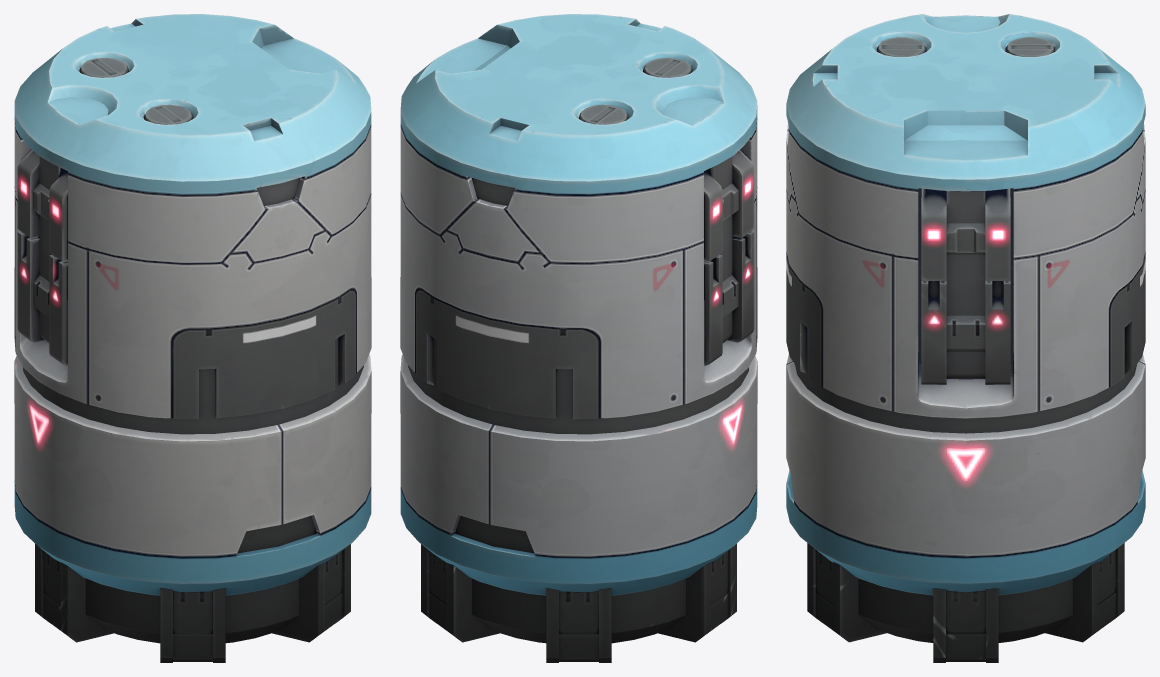
File: barrel.glb
3 views of the same model, side by side, from view 1: azimuth 30°, elevation 25°; view 2: azimuth 150°, elevation 25°; view 3: azimuth 270°, elevation 25° (orthographic).
Parts seen in each view (by area): view 1: Barrel (×2); view 2: Barrel (×2); view 3: Barrel (×2).
Boxes of the visible parts, x1,y1,x2,y2 form: Barrel (×2): [14, 14, 371, 662]; Barrel (×2): [400, 14, 757, 662]; Barrel (×2): [786, 14, 1145, 662].
Size of the model in its own units: 0.5559 by 0.8972 by 0.5559.
1 material, 1 textured.
